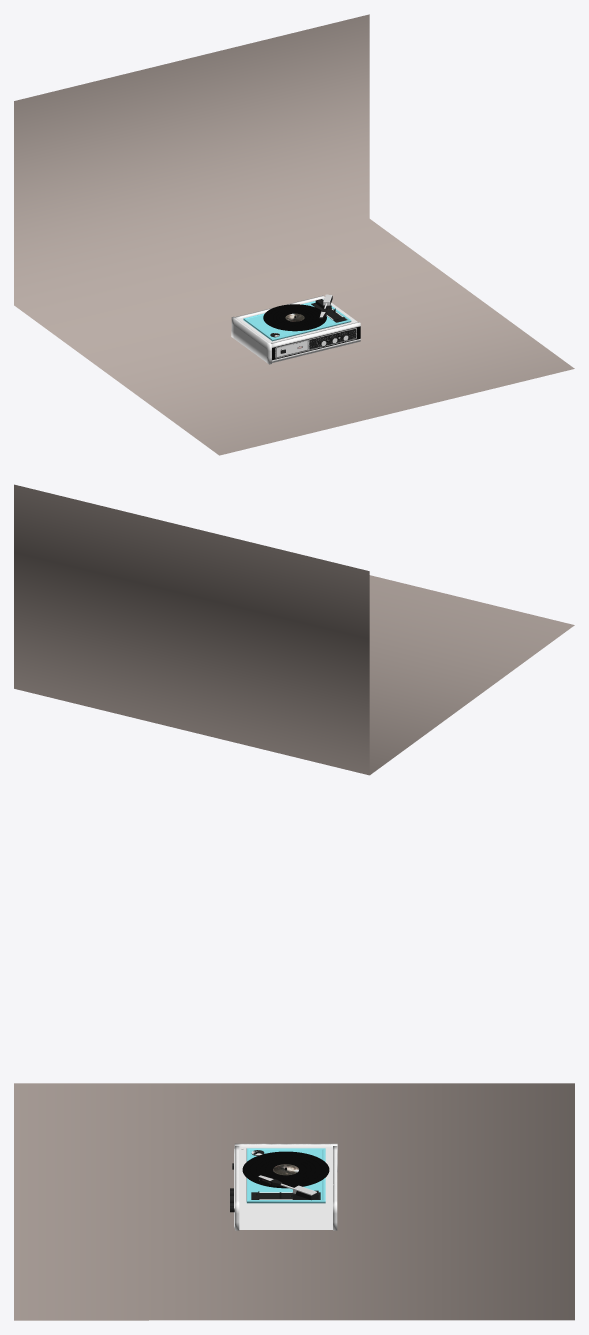
The model's file is record_player.glb.
3 renders of one model, top to bottom at view 1: azimuth 30°, elevation 25°; view 2: azimuth 150°, elevation 25°; view 3: azimuth 270°, elevation 25°, orthographic. The views are drawn at different scales.
Parts seen in each view (by area): view 1: Plane, Cylinder.010, Cube, Plane.004, Plane.003; view 2: Plane; view 3: Plane, Cylinder.010, Plane.005, Plane.004, Plane.007.
Part boxes in pixels (x1,y1,x2,y2): Plane: (14,14,574,455); Cylinder.010: (263,304,326,331); Cube: (272,325,360,361); Plane.004: (243,299,351,341); Plane.003: (231,316,271,364); Plane: (14,484,574,775); Plane: (14,1083,574,1320); Cylinder.010: (242,1151,329,1188); Plane.005: (239,1206,332,1229); Plane.004: (246,1148,325,1203); Plane.007: (239,1147,333,1206).
Size of the model in its own units: 2 by 1.1 by 2.
24 materials, 7 textured.
